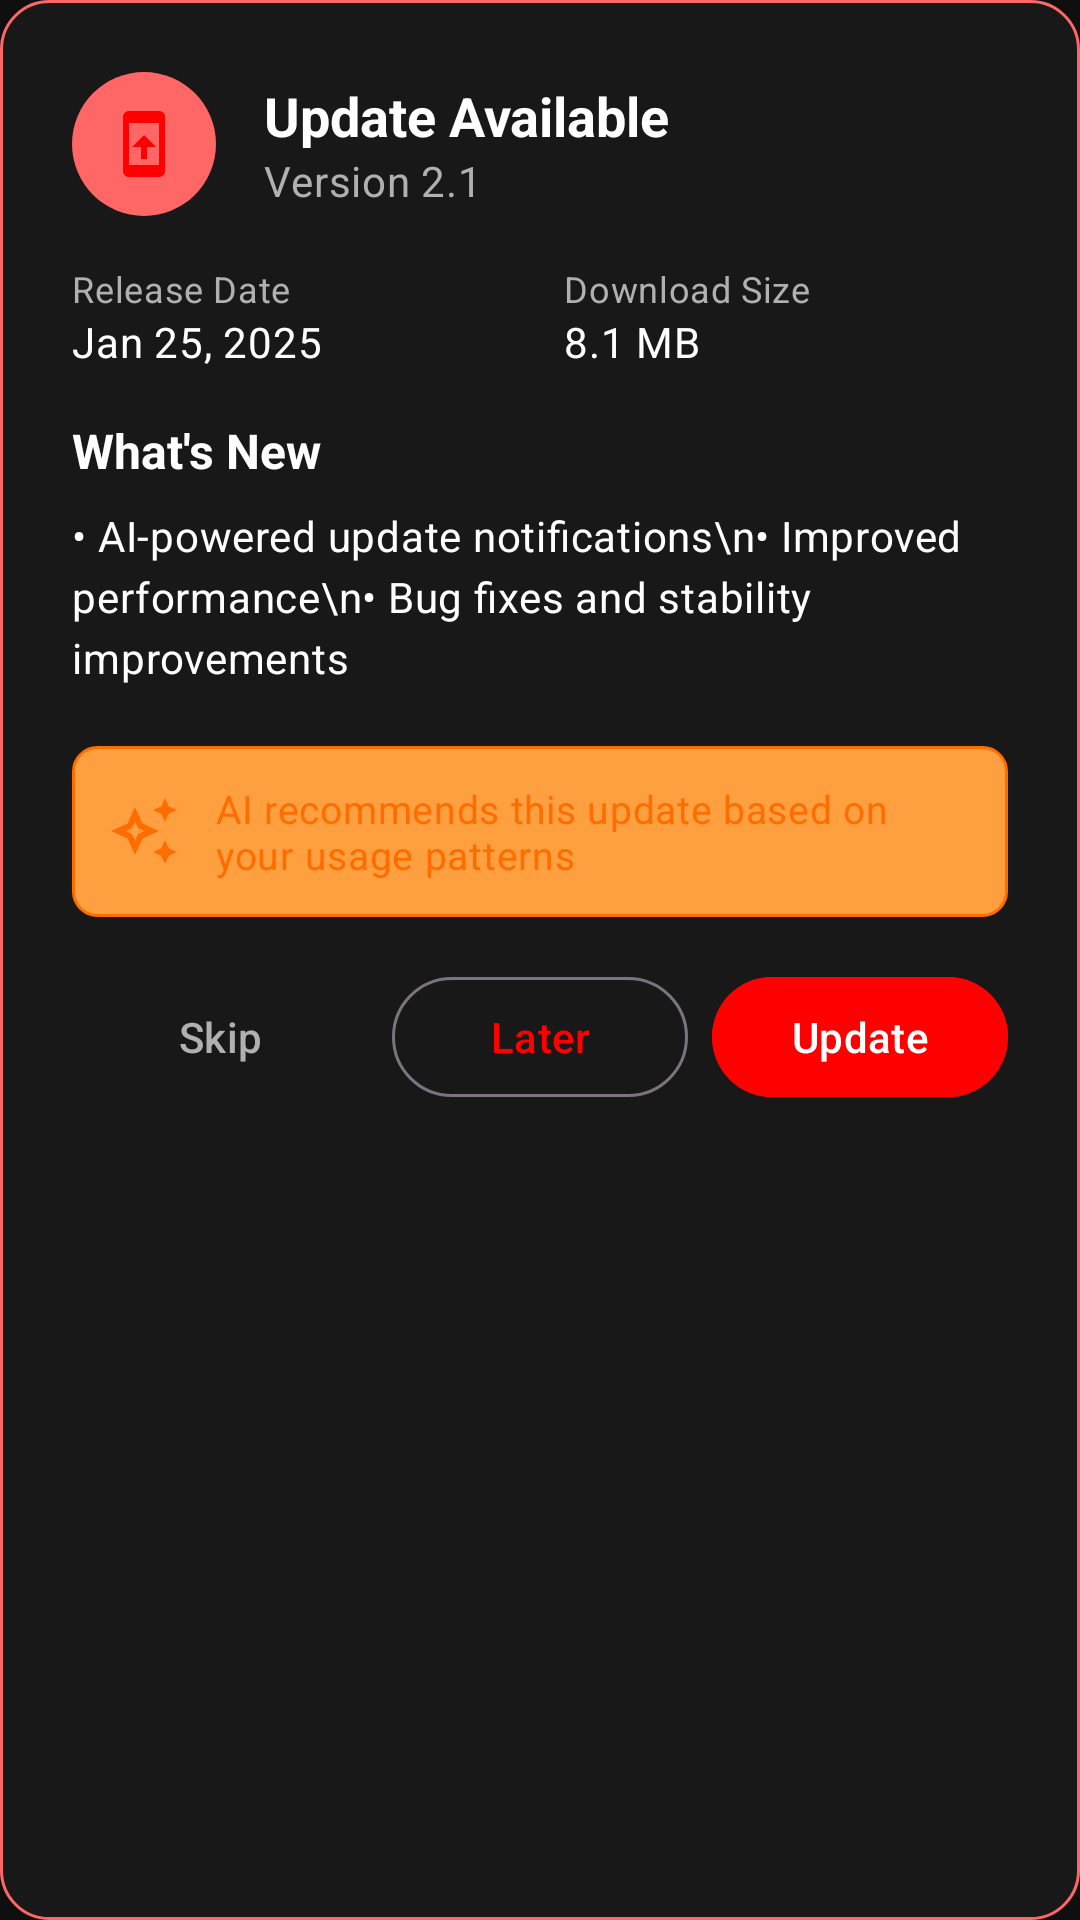

Named icons in this screenshot (1080*1920) and their centers, [x,y]:
auto awesome: [144,831]
system update: [144,144]
